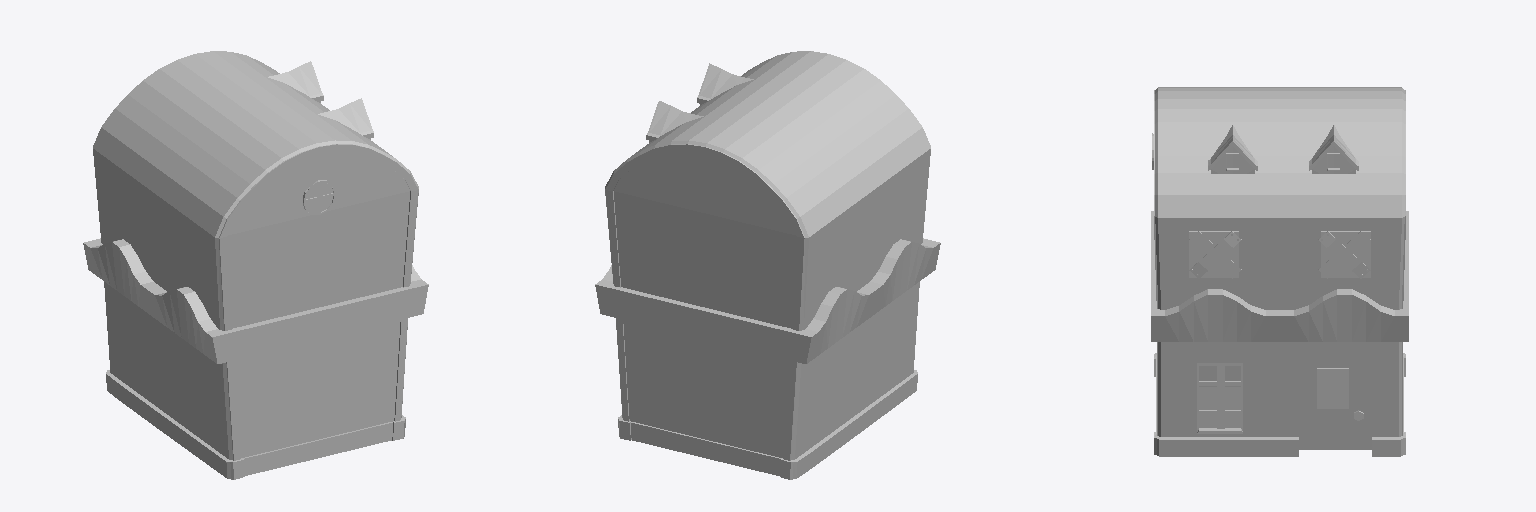
Rendered from 2_CityB_OldHouse_v1.obj.
3 views of the same model, side by side, from view 1: azimuth 30°, elevation 25°; view 2: azimuth 150°, elevation 25°; view 3: azimuth 270°, elevation 25° (orthographic).
Parts seen in each view (by area): view 1: CityB_OldHouse_mesh; view 2: CityB_OldHouse_mesh; view 3: CityB_OldHouse_mesh.
Boxes of the visible parts, box(x1,y1,x2,y2) form: CityB_OldHouse_mesh: box(83, 51, 428, 479); CityB_OldHouse_mesh: box(595, 51, 940, 479); CityB_OldHouse_mesh: box(1151, 87, 1408, 456).
Size of the model in its own units: 9.92 by 13.78 by 10.26.